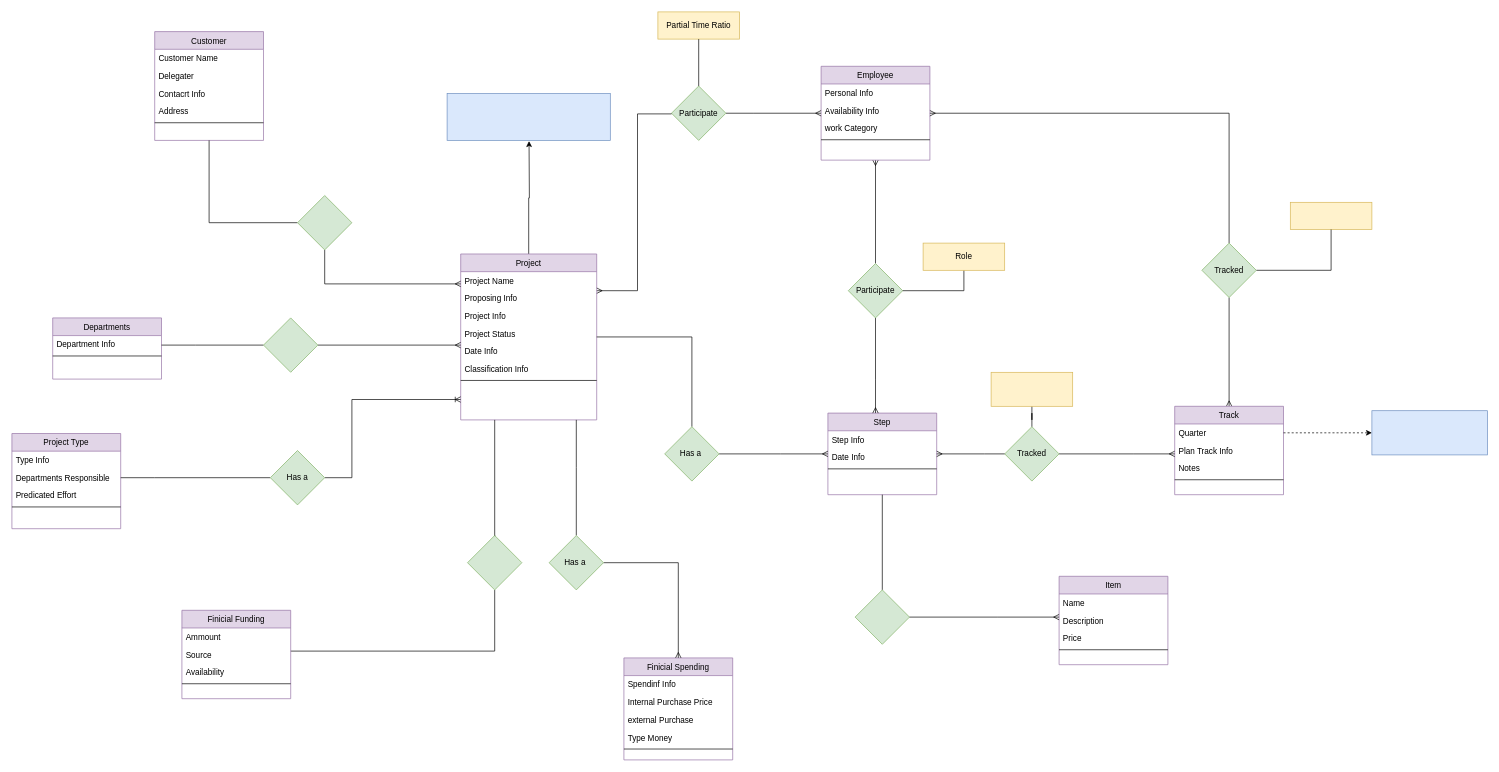
Image size: 1499x772. Some labels were removed from this diagram. Each missing label, with the centre of its shape:
"An Employee supervise the project An Employee lead the project" goes at pixel 528 116.
"Completion Ratio Note" goes at pixel 1031 389.
"Execute a" goes at pixel 290 344.
"Fund a" goes at pixel 494 562.
"Propose" goes at pixel 324 222.
"Purchase a" goes at pixel 882 616.
"We calculate the track in a specified quarter" goes at pixel 1429 432.
"Working Hours Note" goes at pixel 1331 216.
